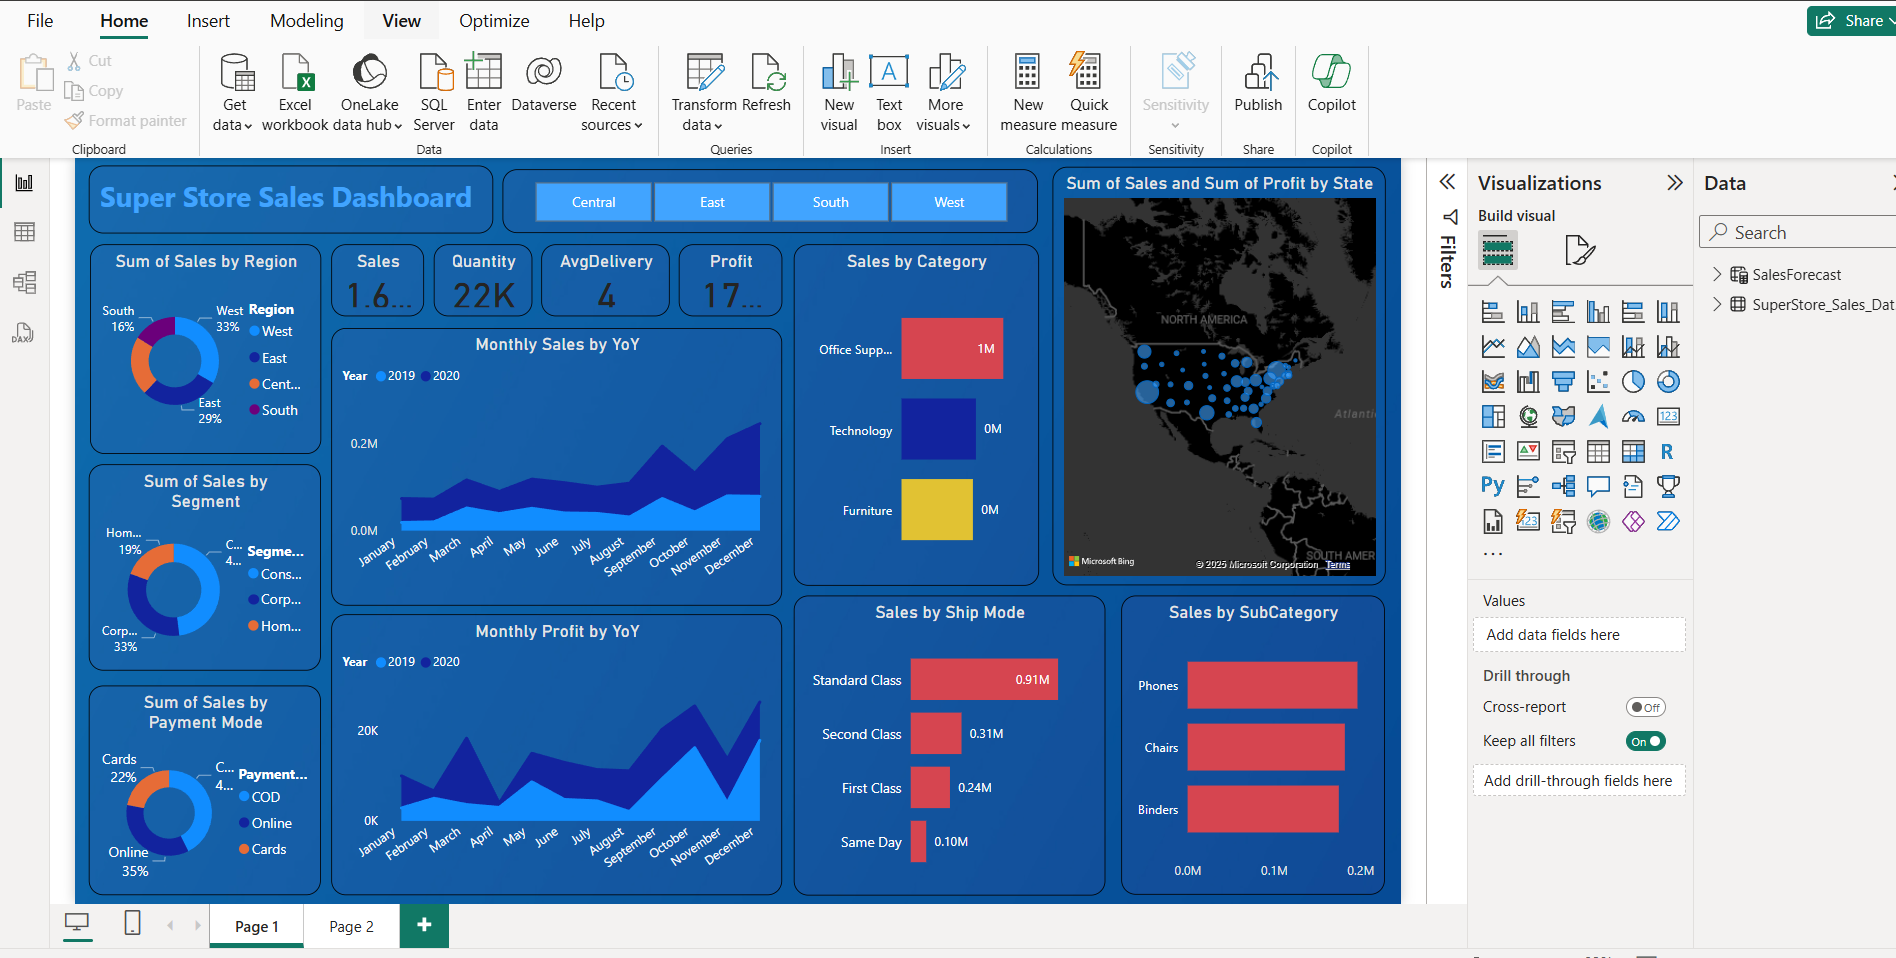

What the dashboard file says about the page in this screenshot:
{"tool":"powerbi","page":{"name":"Page 1","canvas":[1280,720],"ordinal":0},"visuals":[{"type":"clusteredBarChart","title":"Sales by Category","fields":{"Category":["SuperStore_Sales_Dataset.Category"],"Y":["Sum(SuperStore_Sales_Dataset.Sales)"]},"box":[694.3,90,235.7,322.9],"z":0},{"type":"clusteredBarChart","title":"Sales by SubCategory","fields":{"Category":["SuperStore_Sales_Dataset.Sub-Category"],"Y":["Sum(SuperStore_Sales_Dataset.Sales)"]},"box":[1010,422.9,254.3,288.6],"z":1000},{"type":"stackedAreaChart","title":"Monthly Sales by YoY","fields":{"Category":["SuperStore_Sales_Dataset.Order Date.Variation.Date Hierarchy.Month","SuperStore_Sales_Dataset.Order Date.Variation.Date Hierarchy.Day"],"Y":["Sum(SuperStore_Sales_Dataset.Sales)"],"Series":["SuperStore_Sales_Dataset.Order Date.Variation.Date Hierarchy.Year"]},"box":[247.3,168.9,435.5,263],"z":2000},{"type":"stackedAreaChart","title":"Monthly Profit by YoY","fields":{"Category":["SuperStore_Sales_Dataset.Order Date.Variation.Date Hierarchy.Month","SuperStore_Sales_Dataset.Order Date.Variation.Date Hierarchy.Day"],"Series":["SuperStore_Sales_Dataset.Order Date.Variation.Date Hierarchy.Year"],"Y":["Sum(SuperStore_Sales_Dataset.Profit)"]},"box":[247.3,440.4,435.5,271.4],"z":3000},{"type":"map","fields":{"Category":["SuperStore_Sales_Dataset.State"],"Size":["Sum(SuperStore_Sales_Dataset.Sales)"]},"box":[942.9,8.6,321.4,404.3],"z":4000},{"type":"donutChart","fields":{"Category":["SuperStore_Sales_Dataset.Segment"],"Y":["Sum(SuperStore_Sales_Dataset.Sales)"]},"box":[13.3,295.6,224.4,199.1],"z":5000},{"type":"clusteredBarChart","title":"Sales by Ship Mode","fields":{"Category":["SuperStore_Sales_Dataset.Ship Mode"],"Y":["Sum(SuperStore_Sales_Dataset.Sales)"]},"box":[693.7,422.3,300.4,289.5],"z":6000},{"type":"donutChart","fields":{"Category":["SuperStore_Sales_Dataset.Payment Mode"],"Y":["Sum(SuperStore_Sales_Dataset.Sales)"]},"box":[13.3,509.1,224.4,202.7],"z":7000},{"type":"slicer","fields":{"Values":["SuperStore_Sales_Dataset.Region"]},"box":[412.9,11.4,517.1,61.4],"z":8000},{"type":"textbox","box":[12.9,7.1,390,65.7],"z":9000},{"type":"card","title":"Sales","fields":{"Values":["Sum(SuperStore_Sales_Dataset.Sales)"]},"box":[247.3,83.2,89.3,70],"z":10000},{"type":"card","title":"Quantity","fields":{"Values":["Sum(SuperStore_Sales_Dataset.Quantity)"]},"box":[346.2,83.2,95.3,70],"z":11000},{"type":"card","title":"Profit","fields":{"Values":["Sum(SuperStore_Sales_Dataset.Profit)"]},"box":[582.7,83.2,100.1,70],"z":12000},{"type":"card","title":"AvgDelivery","fields":{"Values":["Avg(SuperStore_Sales_Dataset.AvgDelivery)"]},"box":[450,83.2,124.3,70],"z":13000},{"type":"donutChart","fields":{"Category":["SuperStore_Sales_Dataset.Region","SuperStore_Sales_Dataset.Segment"],"Y":["Sum(SuperStore_Sales_Dataset.Sales)"]},"box":[14.5,90.5,223.2,194.2],"z":14000}]}

Visuals, with their boxes on the page's 1280x720 design canvas (x1, y1, x2, y2). These are canvas units, not pixel positions in the 1896x958 screenshot, which may show the page scaled, cropped or inside an application window:
"Sales by Category" clusteredBarChart: region(694, 90, 930, 413)
"Sales by SubCategory" clusteredBarChart: region(1010, 423, 1264, 712)
"Monthly Sales by YoY" stackedAreaChart: region(247, 169, 683, 432)
"Monthly Profit by YoY" stackedAreaChart: region(247, 440, 683, 712)
map - SuperStore_Sales_Dataset.State x Sum(SuperStore_Sales_Dataset.Sales): region(943, 9, 1264, 413)
donutChart - SuperStore_Sales_Dataset.Segment x Sum(SuperStore_Sales_Dataset.Sales): region(13, 296, 238, 495)
"Sales by Ship Mode" clusteredBarChart: region(694, 422, 994, 712)
donutChart - SuperStore_Sales_Dataset.Payment Mode x Sum(SuperStore_Sales_Dataset.Sales): region(13, 509, 238, 712)
slicer - SuperStore_Sales_Dataset.Region: region(413, 11, 930, 73)
textbox: region(13, 7, 403, 73)
"Sales" card: region(247, 83, 337, 153)
"Quantity" card: region(346, 83, 442, 153)
"Profit" card: region(583, 83, 683, 153)
"AvgDelivery" card: region(450, 83, 574, 153)
donutChart - SuperStore_Sales_Dataset.Region x SuperStore_Sales_Dataset.Segment: region(14, 90, 238, 285)
